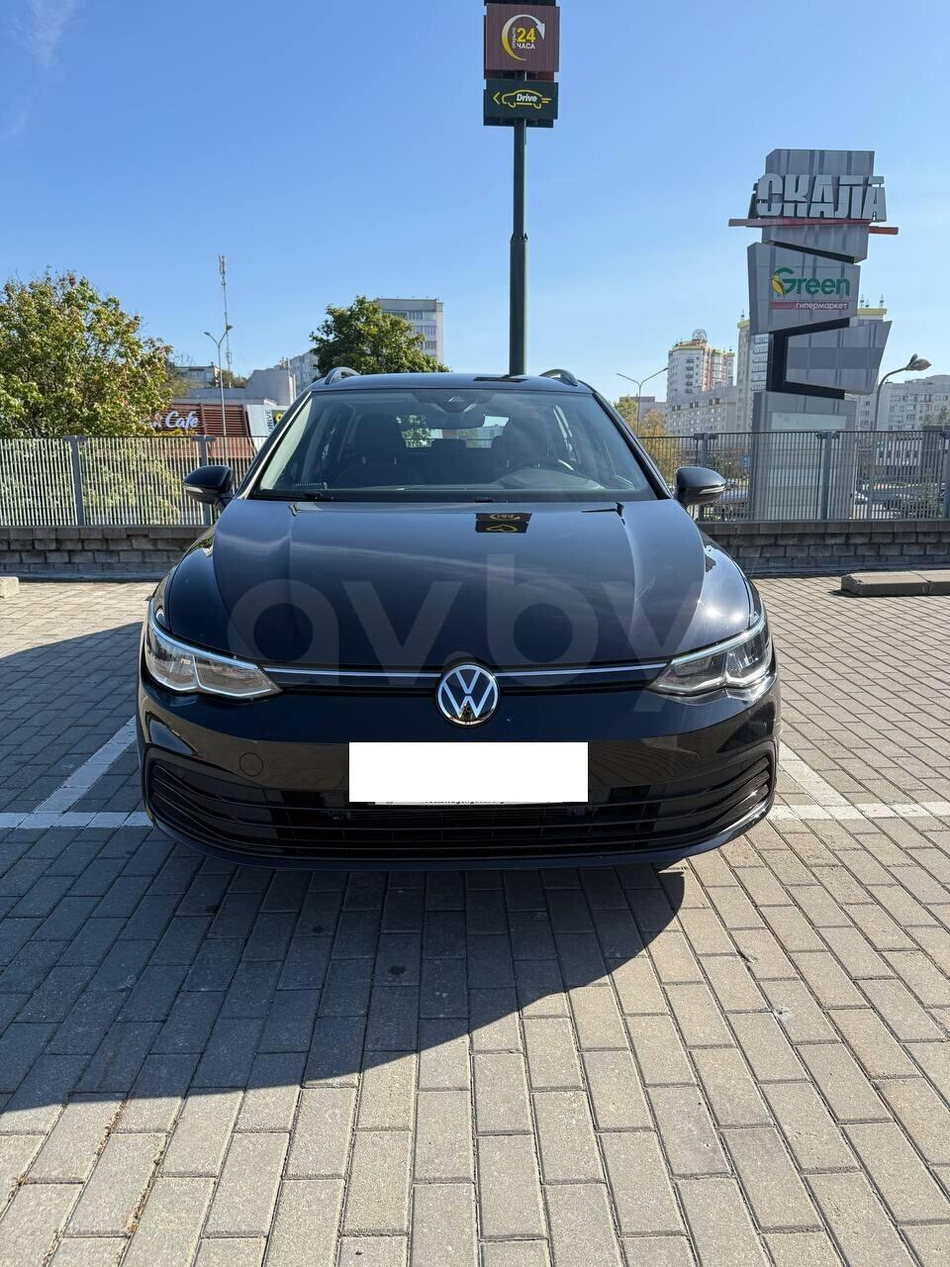Golf_2019: (124, 360, 793, 873)
